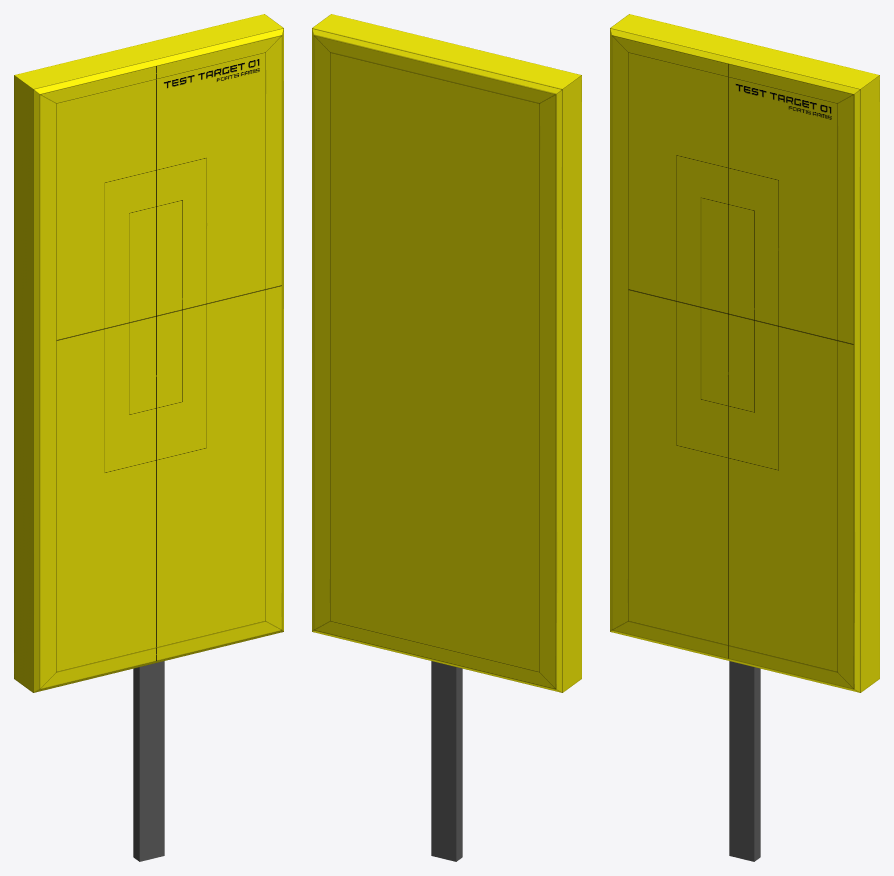
The model's file is TargetSign01.fbx.
3 renders of one model, left to right at view 1: azimuth 30°, elevation 25°; view 2: azimuth 150°, elevation 25°; view 3: azimuth 330°, elevation 25°, orthographic.
Visible parts, largest first — view 1: pCube4, pCube5; view 2: pCube4, pCube5; view 3: pCube4, pCube5.
Part boxes in pixels (bbox=[...]): pCube4: bbox=[14, 14, 283, 692]; pCube5: bbox=[133, 661, 164, 861]; pCube4: bbox=[312, 14, 581, 692]; pCube5: bbox=[431, 661, 462, 861]; pCube4: bbox=[610, 14, 879, 692]; pCube5: bbox=[729, 661, 760, 861].
Size of the model in its own units: 0.6 by 1.84 by 0.1.
